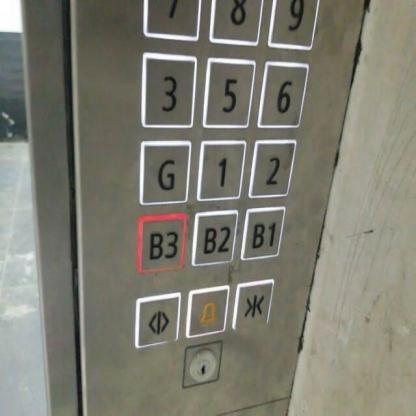1: (193, 137, 245, 201)
2: (246, 137, 297, 198)
3: (140, 52, 196, 127)
5: (202, 57, 256, 128)
6: (258, 61, 308, 129)
9: (267, 0, 319, 49)
B1: (238, 203, 286, 260)
B2: (190, 207, 238, 265)
B3: (137, 213, 185, 272)
G: (137, 137, 191, 205)
alarm: (185, 284, 228, 337)
bt_keyhole: (183, 340, 222, 388)
close: (231, 278, 273, 329)
open: (134, 291, 181, 348)
